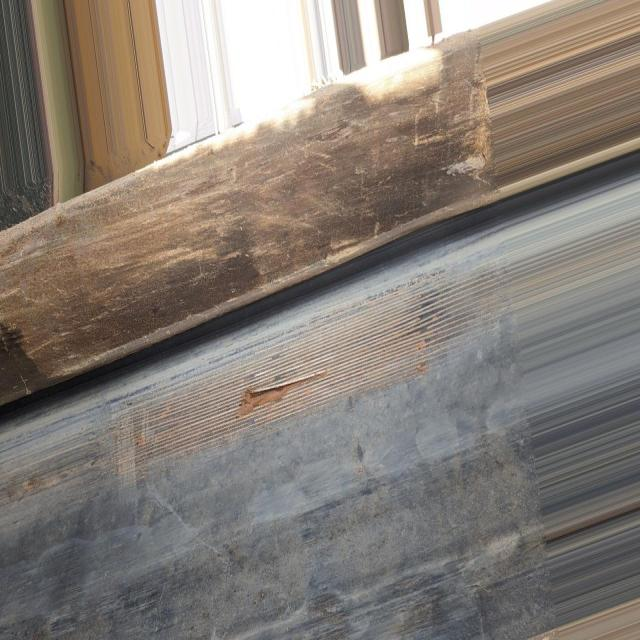impact damage: (109, 281, 426, 472)
